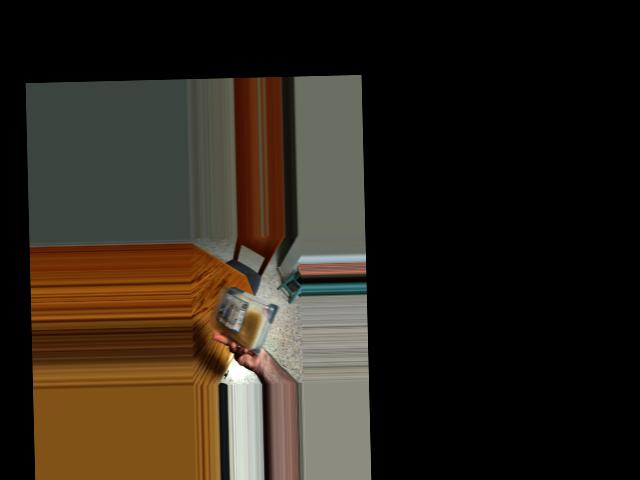cheese: (213, 285, 278, 338)
